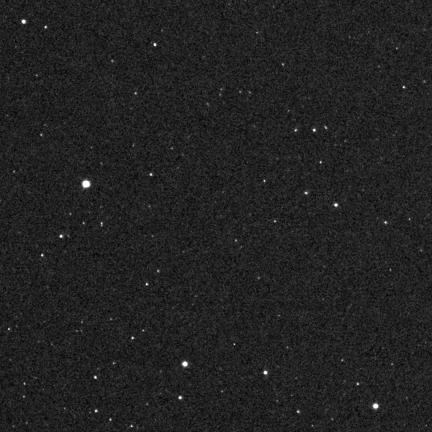blob: (82, 181, 91, 189)
